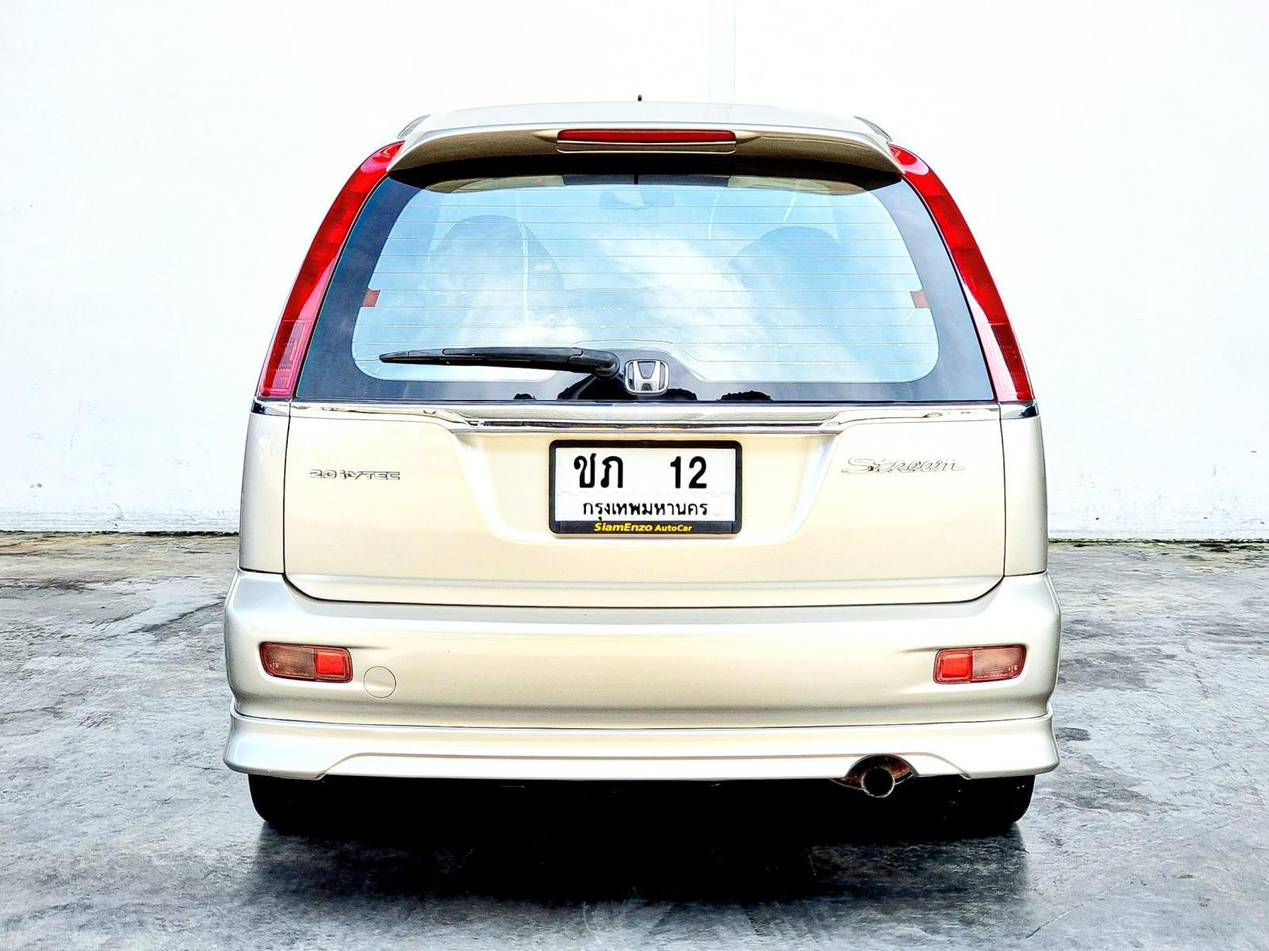license-plate: (544, 434, 748, 547)
